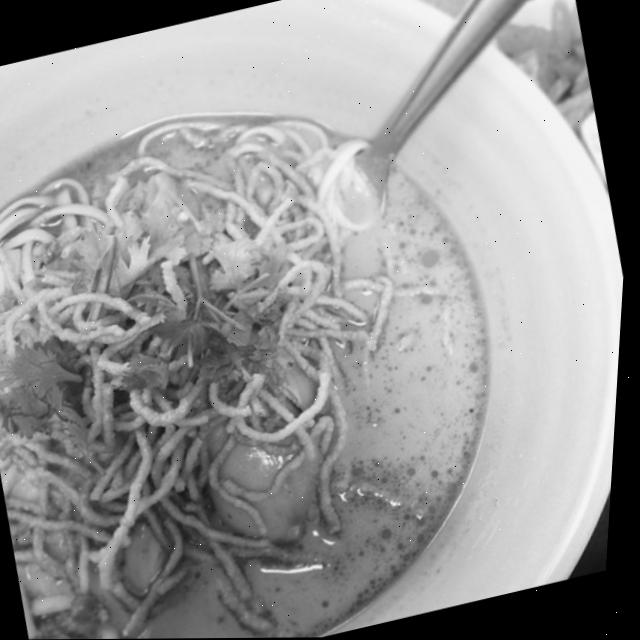面条主食: (0, 17, 573, 640)
